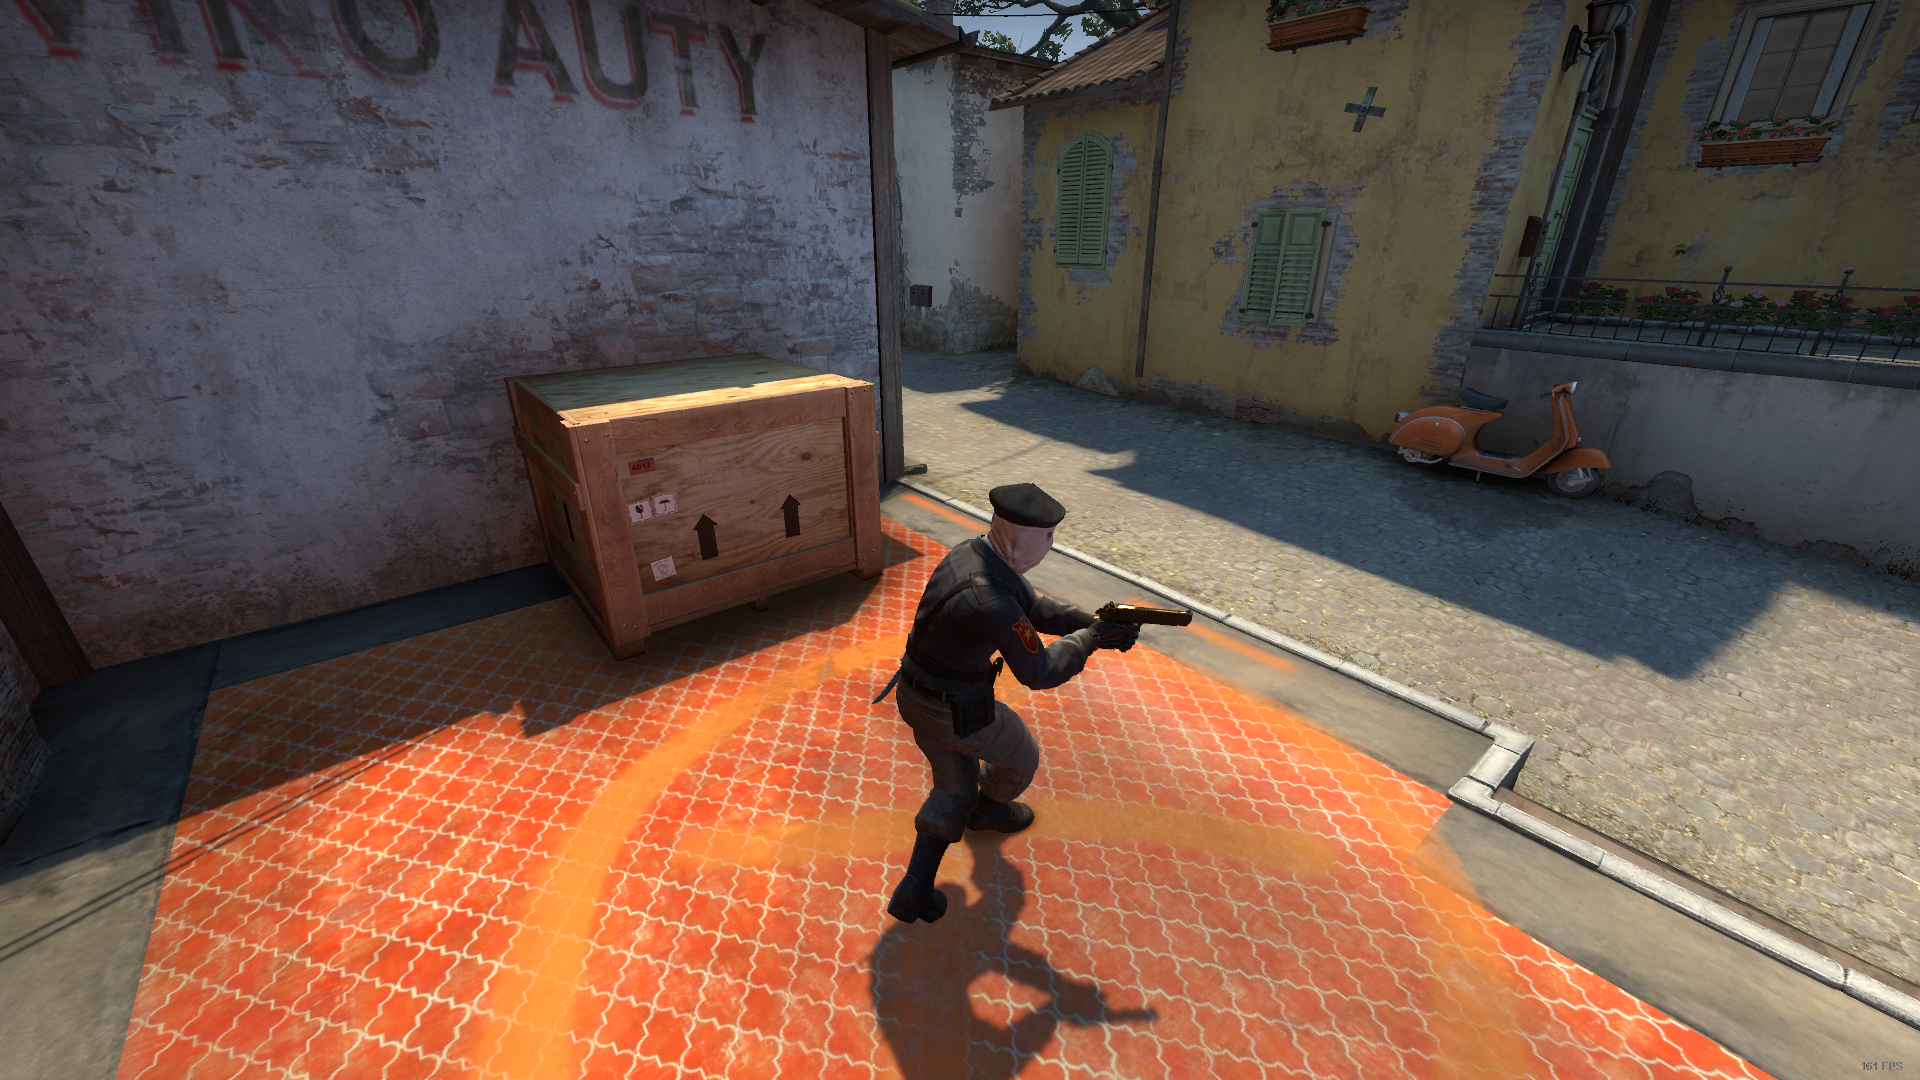t: (868, 476, 1150, 967)
